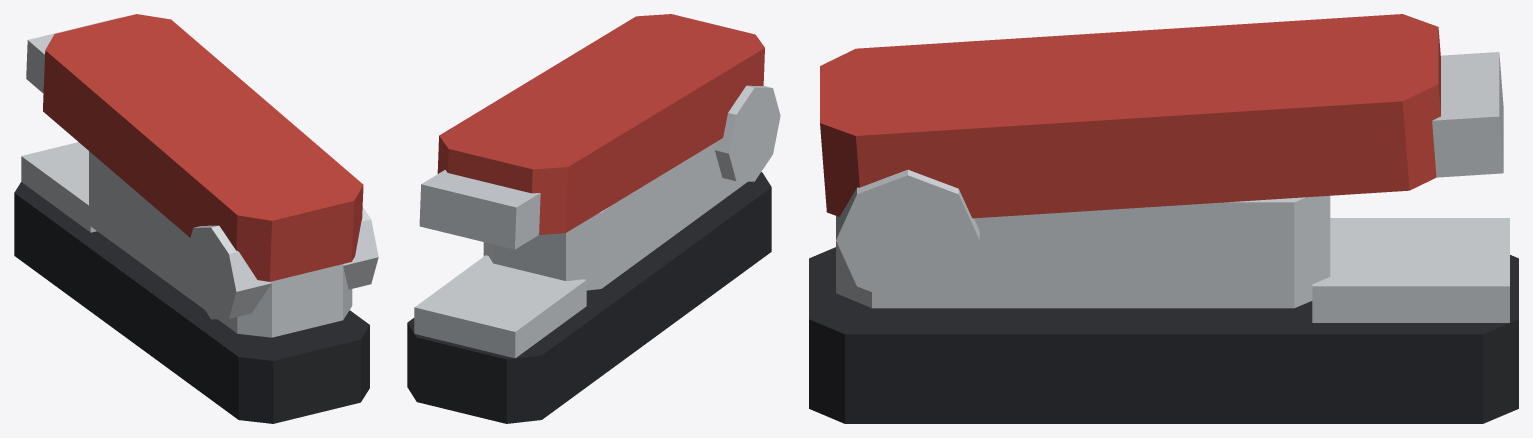
File: SM_LPI_Office_Stapler_01.fbx
The picture shows the model from 3 angles, left to right: view 1: azimuth 30°, elevation 25°; view 2: azimuth 150°, elevation 25°; view 3: azimuth 270°, elevation 25°; orthographic projection. The views are drawn at different scales.
Parts seen in each view (by area): view 1: SM_LPI_Office_Stapler_01; view 2: SM_LPI_Office_Stapler_01; view 3: SM_LPI_Office_Stapler_01.
Boxes of the visible parts, <box> form: SM_LPI_Office_Stapler_01: <box>14,14,378,423</box>; SM_LPI_Office_Stapler_01: <box>407,14,780,423</box>; SM_LPI_Office_Stapler_01: <box>809,14,1518,423</box>.
Size of the model in its own units: 0.052 by 0.0793 by 0.158.
